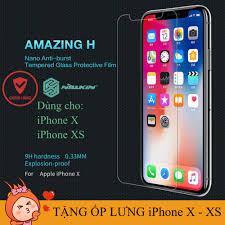iphone10: (137, 3, 212, 197)
